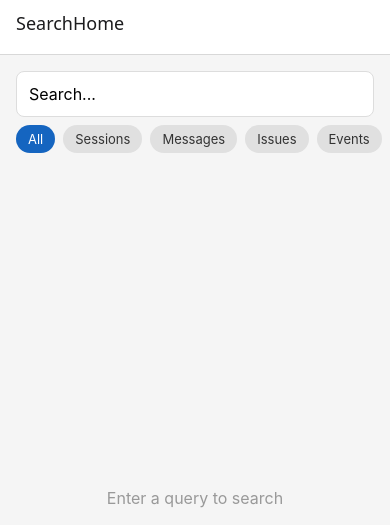
SearchScreen › shows no results when API returns empty results array
Type "nonexistent" into the field with test id "search-input".
click(195, 94); type("nonexistent")  # box left=16, top=71, right=374, bottom=117
Wait 400 ms
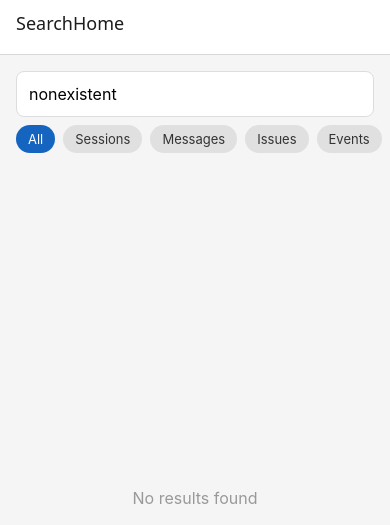
Result: the text "No results found" is shown at left=132, top=488, right=258, bottom=508
